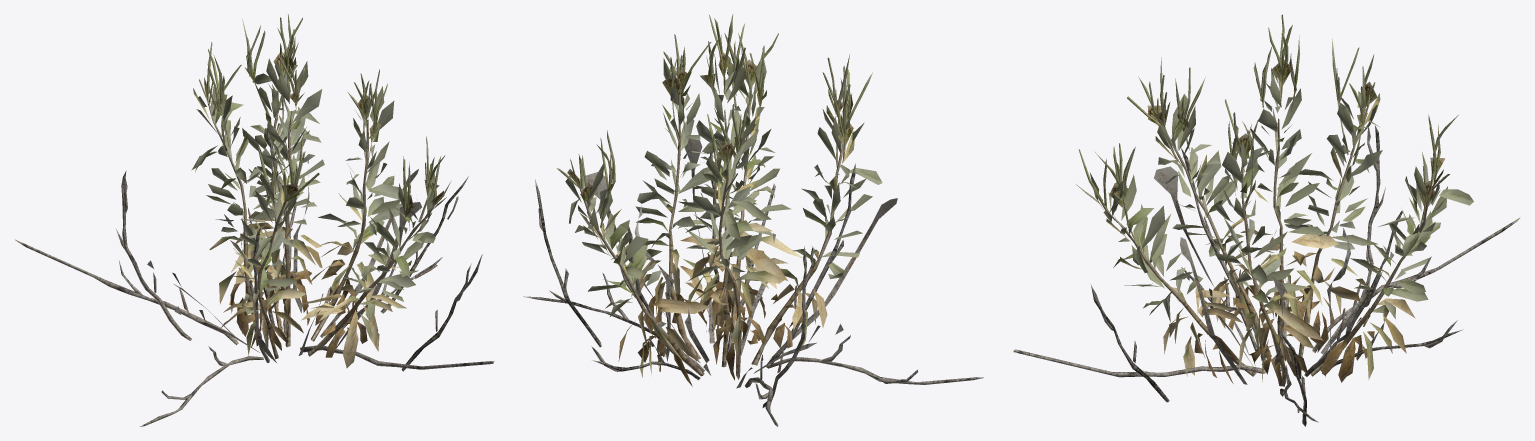
File: SM_Foliage_01.fbx
3 views of the same model, side by side, from view 1: azimuth 30°, elevation 25°; view 2: azimuth 150°, elevation 25°; view 3: azimuth 270°, elevation 25° (orthographic). The views are drawn at different scales.
Visible parts, largest first — view 1: SM_Foliage_01_LOD0; view 2: SM_Foliage_01_LOD0; view 3: SM_Foliage_01_LOD0.
Part boxes in pixels (x1=…): SM_Foliage_01_LOD0: x1=15, y1=14, x2=494, y2=426; SM_Foliage_01_LOD0: x1=523, y1=14, x2=983, y2=426; SM_Foliage_01_LOD0: x1=1013, y1=14, x2=1520, y2=426.
Size of the model in its own units: 117 by 129 by 101.
Materials: 1 (1 with a texture image).
